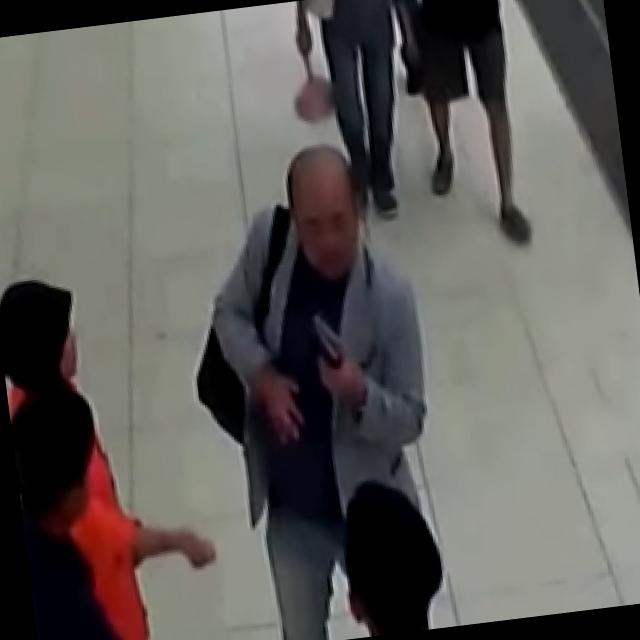person: (178, 136, 456, 640), (0, 265, 219, 640), (6, 376, 144, 640), (395, 0, 537, 254), (293, 0, 429, 219), (332, 472, 450, 638)
